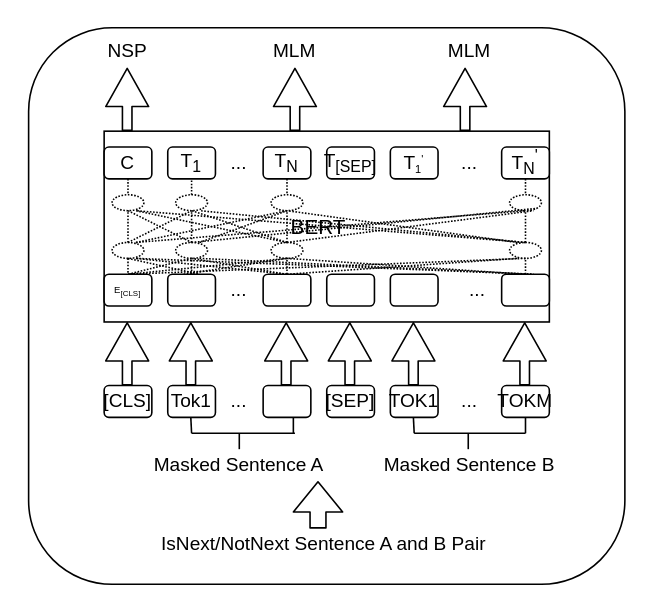
This 652x612 diagram has some shape labels left out. Here are the shapes that lost their labels. From the top down, the centre of each, then its label:
the point at 190,289: E 1
the point at 286,289: E N
the point at 349,289: E [SEP]
the point at 413,289: E 1 '
the point at 524,289: E N '
the point at 286,400: TokN
